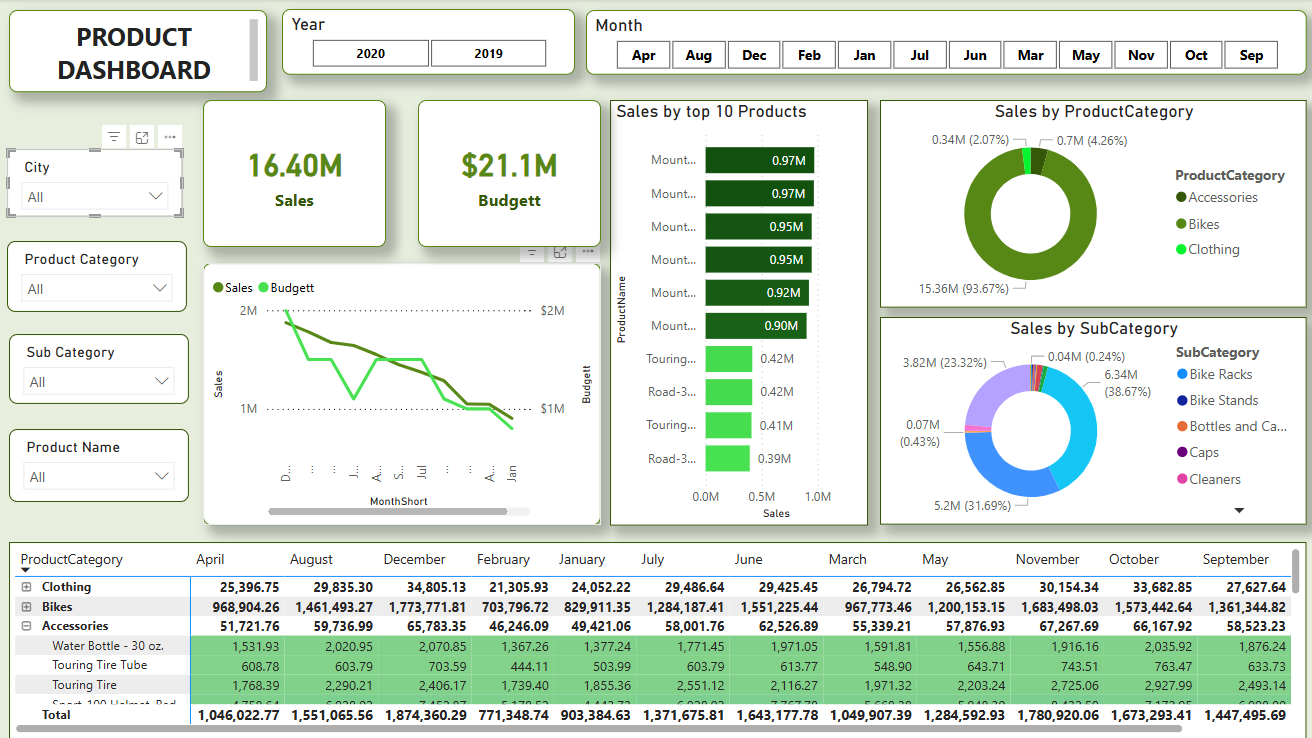

Layout of this report page (visuals, bound fields, positions):
{"tool":"powerbi","page":{"name":"Products","canvas":[1280,720],"ordinal":1},"visuals":[{"type":"textbox","box":[9.9,10.9,250.9,80],"z":0},{"type":"slicer","title":"Year","fields":{"Values":["DimDate.Year"]},"box":[275.6,9.9,285.4,64.2],"z":1000},{"type":"slicer","title":"Month","fields":{"Values":["DimDate.MonthShort"]},"box":[570.9,10.9,701.2,63.2],"z":2000},{"type":"lineChart","title":"Sales and Budget by Month","fields":{"Category":["Dimcalender.MonthShort"],"Y":["FactInternetSales.Sales"],"Y2":["FactBudget.Budgett"]},"box":[198.5,256.8,387.2,254.8],"z":3000},{"type":"barChart","title":"Sales by top 10 Products","fields":{"Category":["DimProducts.ProductName"],"Y":["FactInternetSales.Sales"]},"box":[594.6,97.8,250.9,413.8],"z":4000},{"type":"donutChart","fields":{"Y":["FactInternetSales.Sales"],"Series":["DimProducts.ProductCategory"]},"box":[857.3,97.8,414.8,202.5],"z":5000},{"type":"donutChart","fields":{"Y":["FactInternetSales.Sales"],"Series":["DimProducts.SubCategory"]},"box":[857.3,309.1,414.8,202.5],"z":6000},{"type":"slicer","fields":{"Values":["DimCustomers.CustomerCity"]},"box":[7.8,145.9,171.2,66.1],"z":7000},{"type":"slicer","fields":{"Values":["DimProducts.ProductCategory"]},"box":[7.8,235.4,175.1,69.1],"z":8000},{"type":"slicer","fields":{"Values":["DimProducts.SubCategory"]},"box":[9.7,325.8,175.1,68.1],"z":9000},{"type":"slicer","fields":{"Values":["DimProducts.ProductName"]},"box":[9.7,418.2,175.1,71],"z":10000},{"type":"card","fields":{"Values":["FactInternetSales.Sales"]},"box":[198.5,97.8,177.8,143.2],"z":11000},{"type":"card","fields":{"Values":["FactBudget.Budgett"]},"box":[407.9,97.8,177.8,143.2],"z":12000},{"type":"pivotTable","fields":{"Rows":["DimProducts.ProductCategory","DimProducts.ProductName"],"Columns":["Dimcalender.Month"],"Values":["FactInternetSales.Sales"]},"box":[9.7,528.1,1262.5,191.6],"z":14000}]}

Visuals, with their boxes in screenshot pixels (x1, y1, x2, y2), scaled from the page's 1280x720 canvas onto the 1312x738 screenshot:
textbox: 10/11/267/93
"Year" slicer: 282/10/575/76
"Month" slicer: 585/11/1304/76
"Sales and Budget by Month" lineChart: 203/263/600/524
"Sales by top 10 Products" barChart: 609/100/867/524
donutChart - FactInternetSales.Sales x DimProducts.ProductCategory: 879/100/1304/308
donutChart - FactInternetSales.Sales x DimProducts.SubCategory: 879/317/1304/524
slicer - DimCustomers.CustomerCity: 8/150/183/217
slicer - DimProducts.ProductCategory: 8/241/187/312
slicer - DimProducts.SubCategory: 10/334/189/404
slicer - DimProducts.ProductName: 10/429/189/501
card - FactInternetSales.Sales: 203/100/386/247
card - FactBudget.Budgett: 418/100/600/247
pivotTable - DimProducts.ProductCategory x DimProducts.ProductName: 10/541/1304/737
